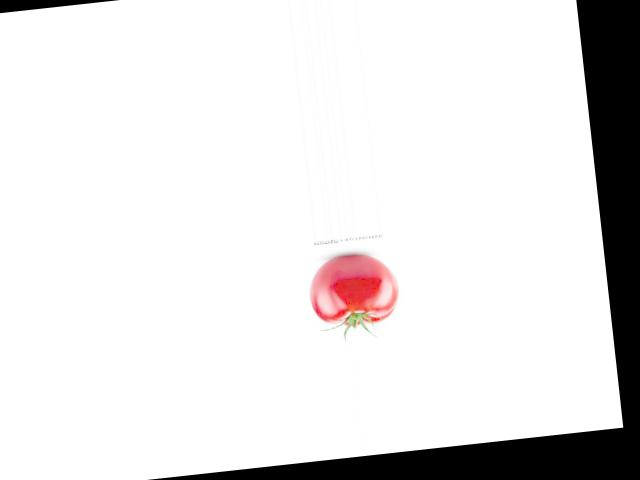tomato: (305, 250, 401, 329)
